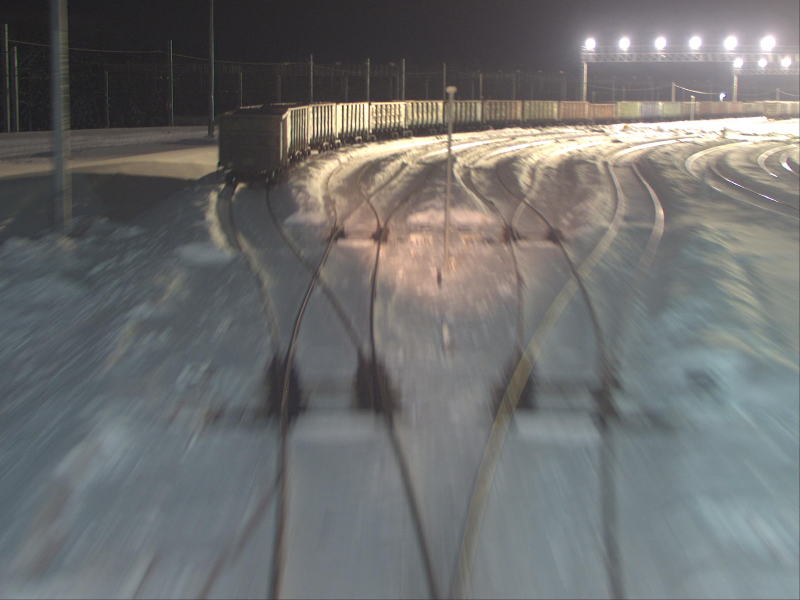railway_arrows: (500, 267, 629, 422), (267, 271, 387, 413)
